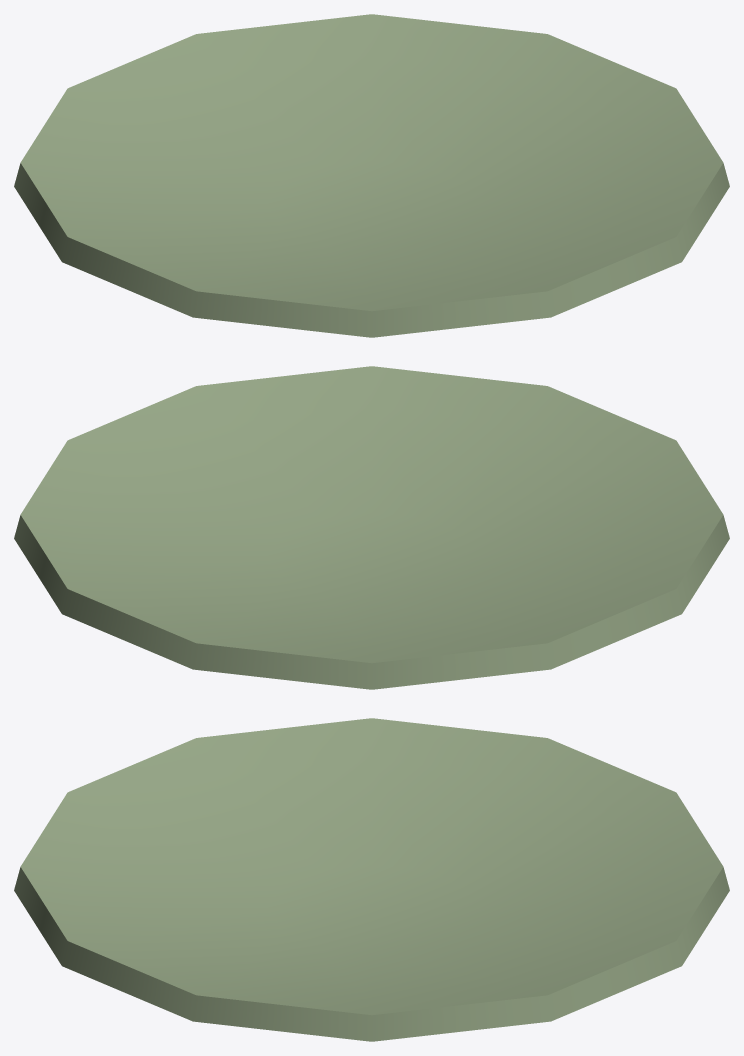
The model's file is CoffeePlate_01.fbx.
3 views of the same model, one above another, from view 1: azimuth 30°, elevation 25°; view 2: azimuth 150°, elevation 25°; view 3: azimuth 270°, elevation 25° (orthographic).
Parts seen in each view (by area): view 1: CoffeePlate_01; view 2: CoffeePlate_01; view 3: CoffeePlate_01.
Part boxes in pixels (x1,y1,x2,y2): CoffeePlate_01: (14, 14, 729, 337); CoffeePlate_01: (14, 366, 729, 689); CoffeePlate_01: (14, 718, 729, 1041).
Size of the model in its own units: 0.1306 by 0.0153 by 0.1306.
